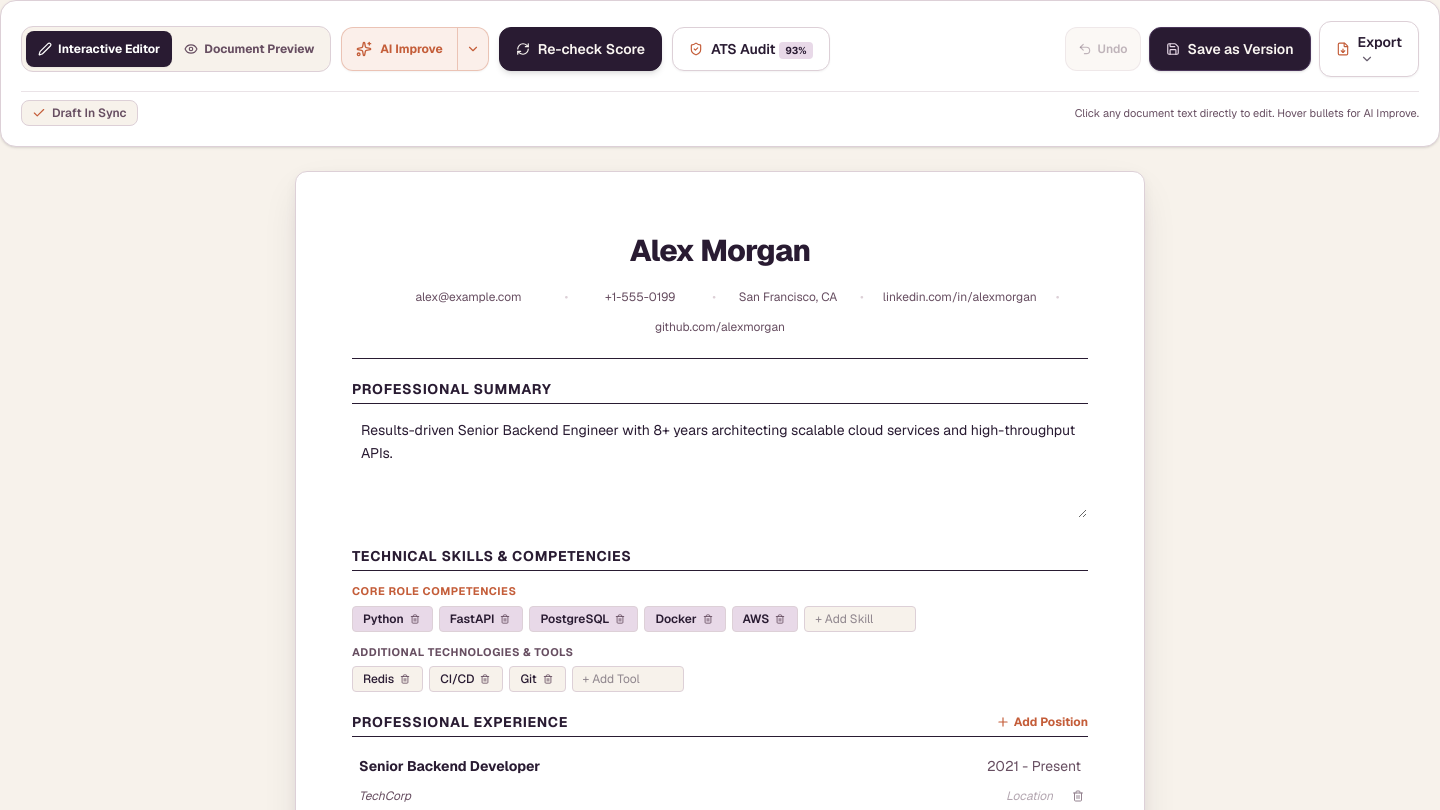
Test: InteractiveResumeEditor - Phase 6.2 Studio Editor › toggles between Interactive Editor and Document Preview modes
This screenshot has width=1440, height=810.
Click the button "Document Preview" at (249, 49), box [172,31,326,67]
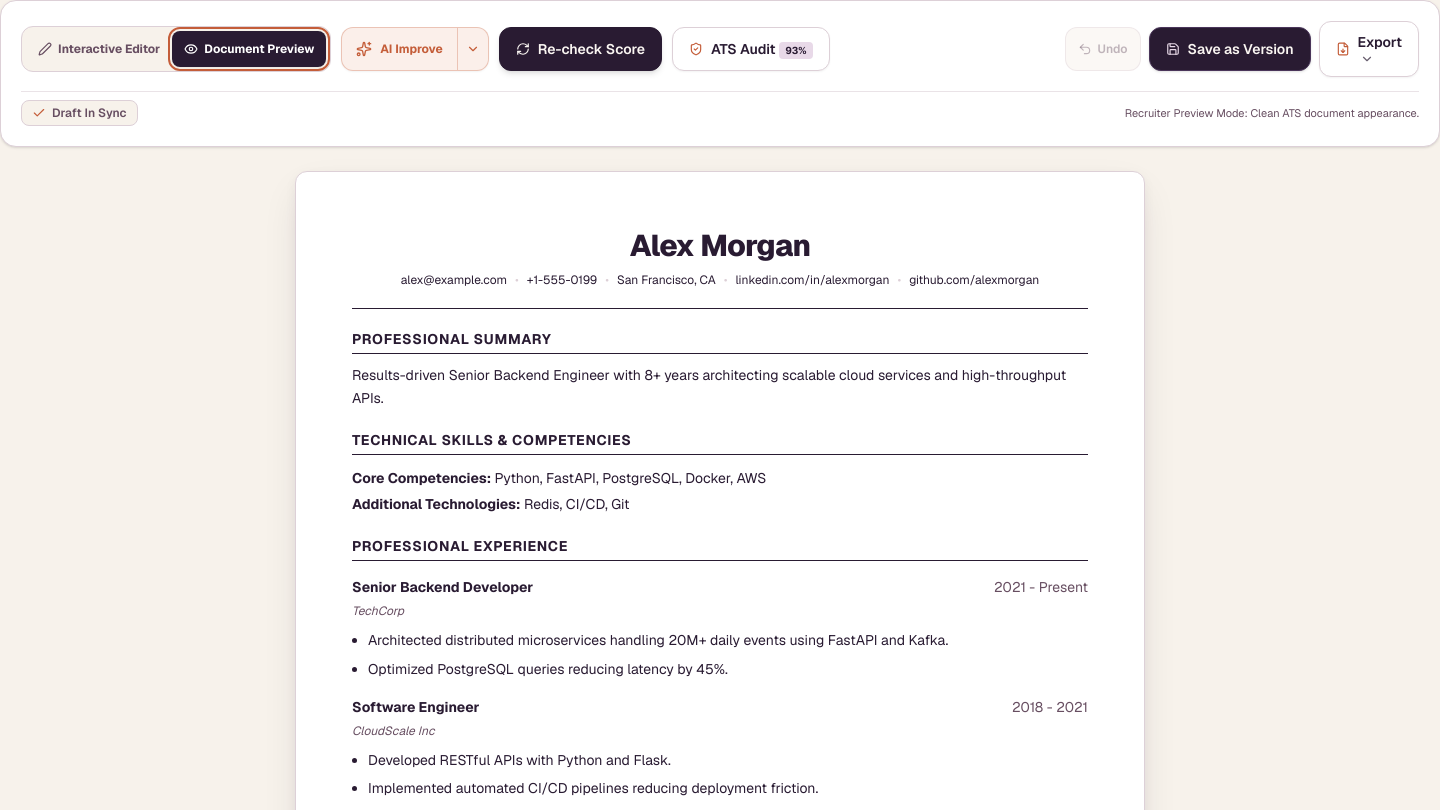
Expected: the button "Interactive Editor" is shown, [26,31,172,67]
Expected: the heading "Alex Morgan" is shown, [630,226,810,265]
